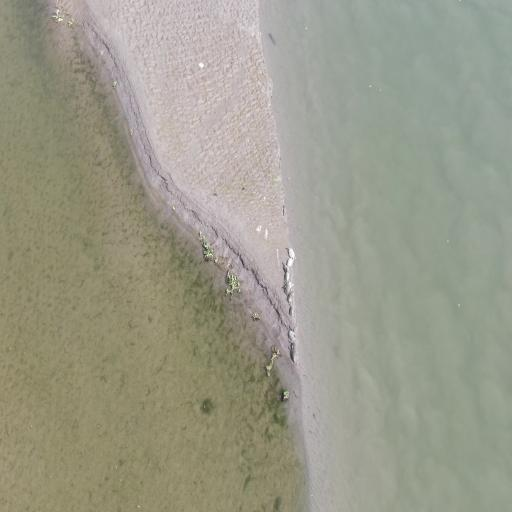turtle: (289, 327, 297, 342), (291, 345, 297, 364), (288, 246, 296, 258), (283, 271, 291, 282), (283, 261, 290, 273), (285, 280, 291, 294), (287, 256, 294, 267), (288, 291, 293, 304), (290, 303, 294, 317)
